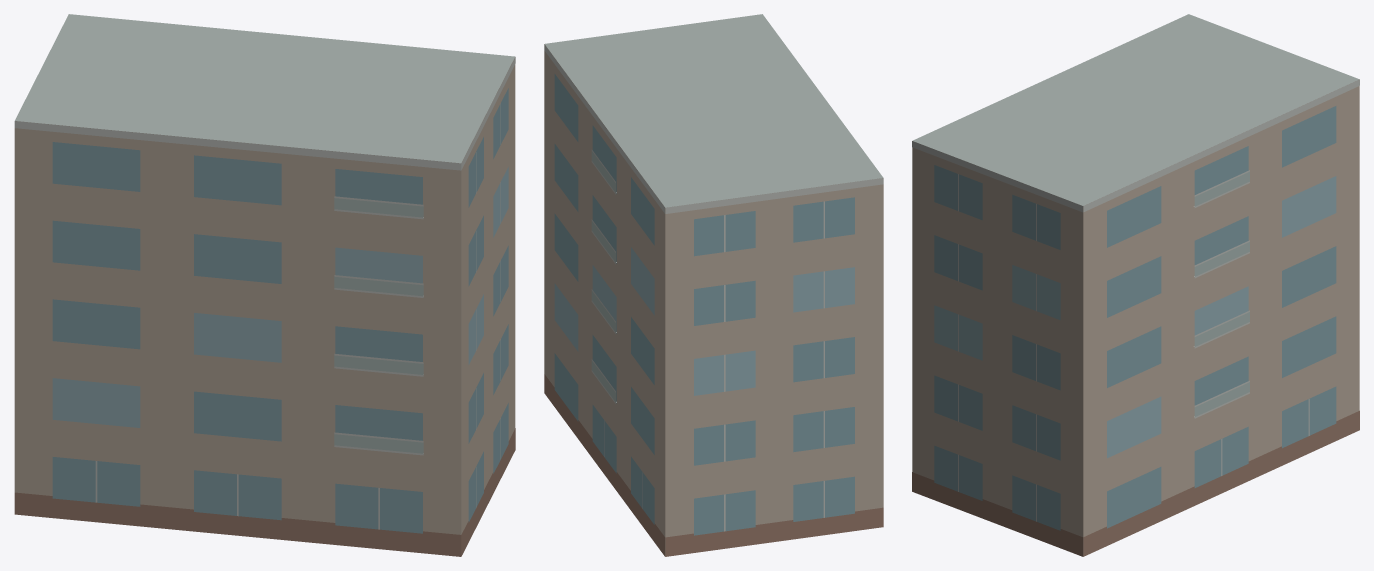
File: survey-upis-32892484.glb
3 views of the same model, side by side, from view 1: azimuth 30°, elevation 25°; view 2: azimuth 150°, elevation 25°; view 3: azimuth 270°, elevation 25° (orthographic). The views are drawn at different scales.
Visible parts, largest first — view 1: survey-upis-32892484.tmp; view 2: survey-upis-32892484.tmp; view 3: survey-upis-32892484.tmp.
Boxes of the visible parts, bbox=[...] form: survey-upis-32892484.tmp: bbox=[14, 14, 515, 556]; survey-upis-32892484.tmp: bbox=[544, 14, 883, 556]; survey-upis-32892484.tmp: bbox=[912, 14, 1359, 556].
Size of the model in its own units: 15.51 by 13.2 by 15.27.
